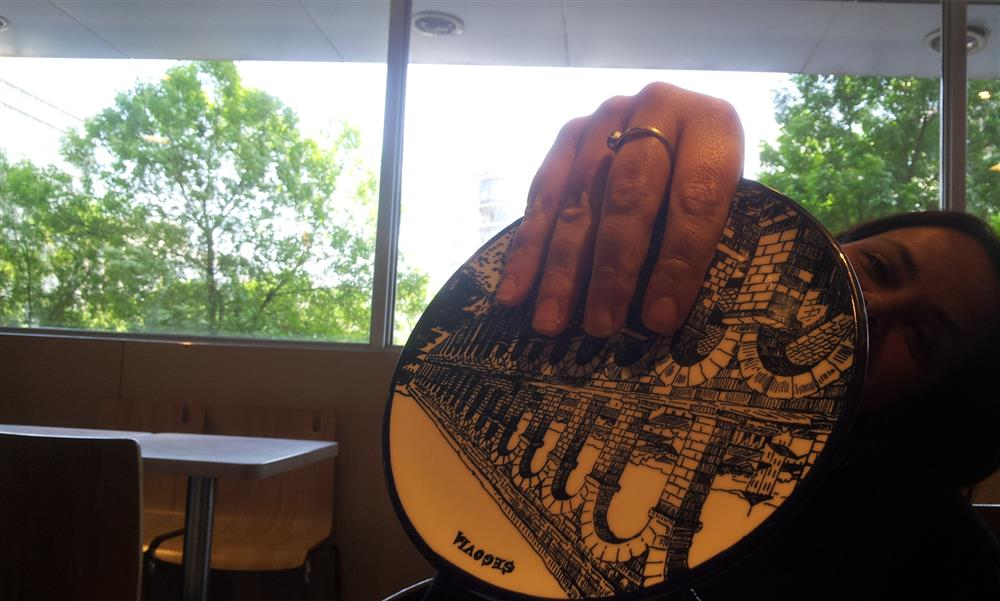plate: (372, 145, 870, 595)
